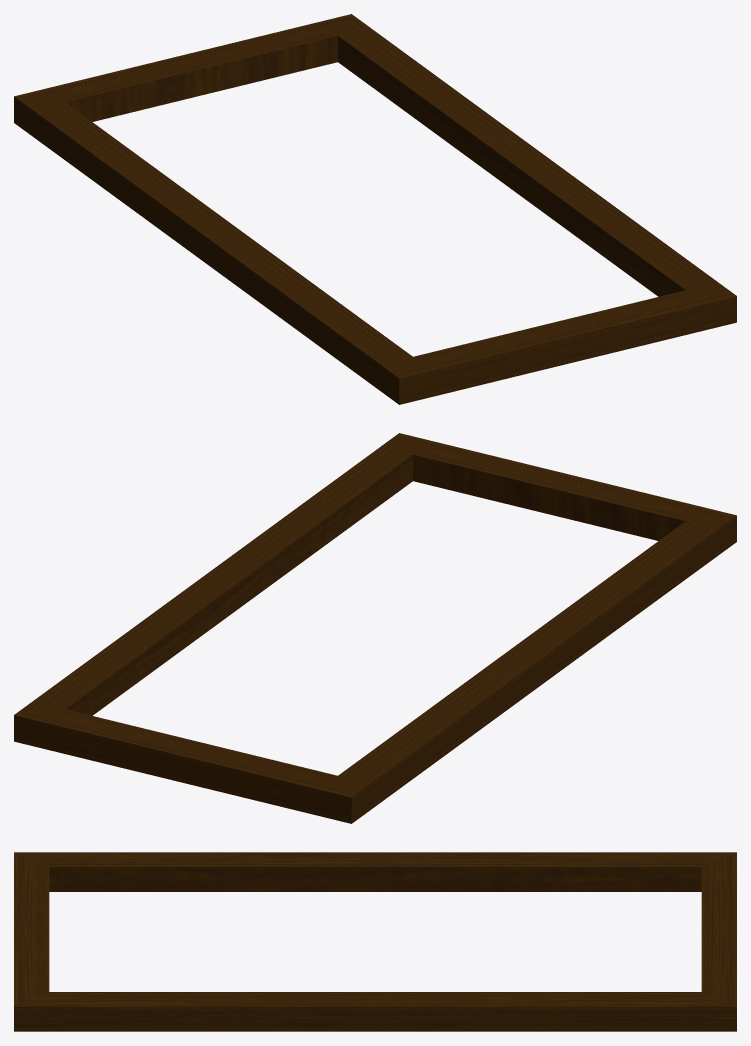
The model's file is GardenPlanterbase.fbx.
3 renders of one model, top to bottom at view 1: azimuth 30°, elevation 25°; view 2: azimuth 150°, elevation 25°; view 3: azimuth 270°, elevation 25°, orthographic. The views are drawn at different scales.
Visible parts, largest first — view 1: GardenPlanterbase_low; view 2: GardenPlanterbase_low; view 3: GardenPlanterbase_low.
Part boxes in pixels (x1,y1,x2,y2): GardenPlanterbase_low: (14, 14, 736, 404); GardenPlanterbase_low: (14, 433, 736, 823); GardenPlanterbase_low: (14, 852, 736, 1031).
Size of the model in its own units: 250 by 18.77 by 494.
